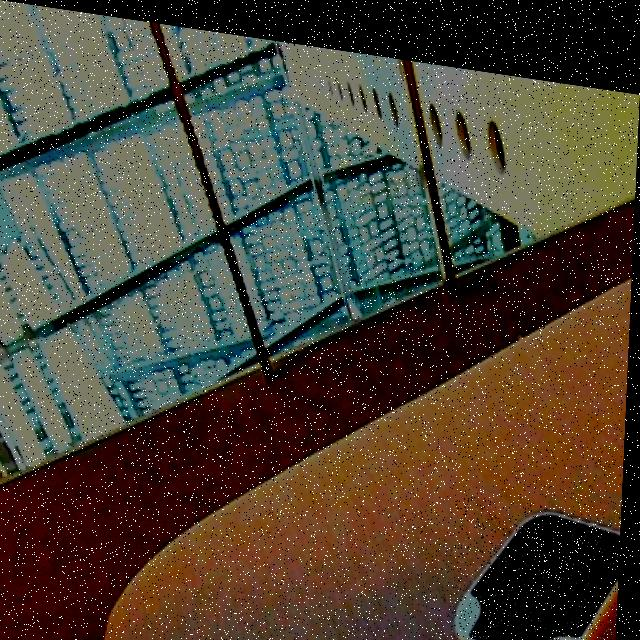adapter: (453, 479, 625, 640)
